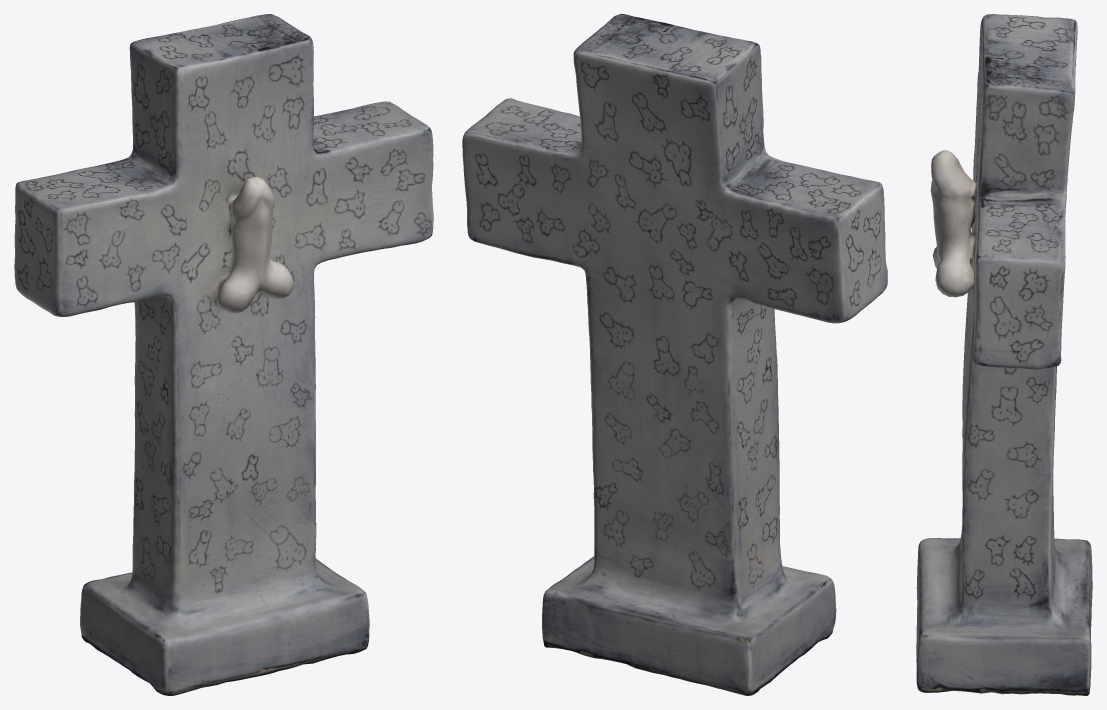
File: dicuss.fbx
The picture shows the model from 3 angles, left to right: view 1: azimuth 30°, elevation 25°; view 2: azimuth 150°, elevation 25°; view 3: azimuth 270°, elevation 25°; orthographic projection.
Parts seen in each view (by area): view 1: Dicuss; view 2: Dicuss; view 3: Dicuss.
Boxes of the visible parts, x1,y1,x2,y2 form: Dicuss: (14,14,433,695); Dicuss: (462,14,887,695); Dicuss: (916,14,1092,695).
Bounding box in the file's own units: 651 × 982 × 260.
Materials: 1 (1 with a texture image).
